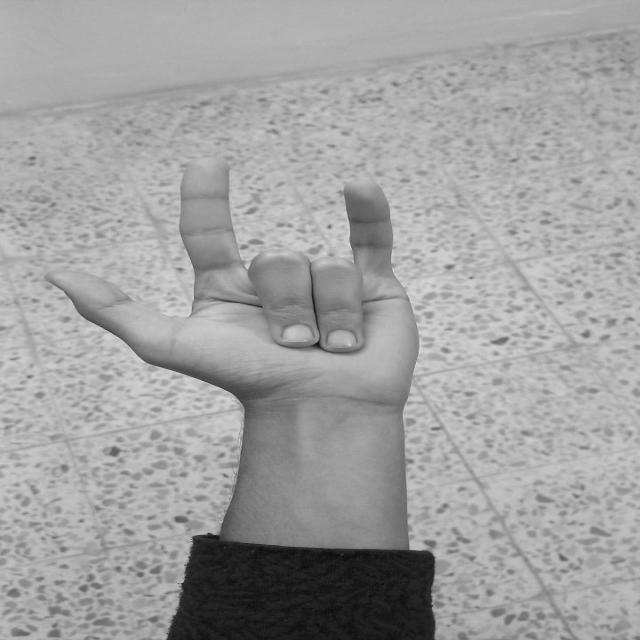i love you: (38, 150, 430, 413)
